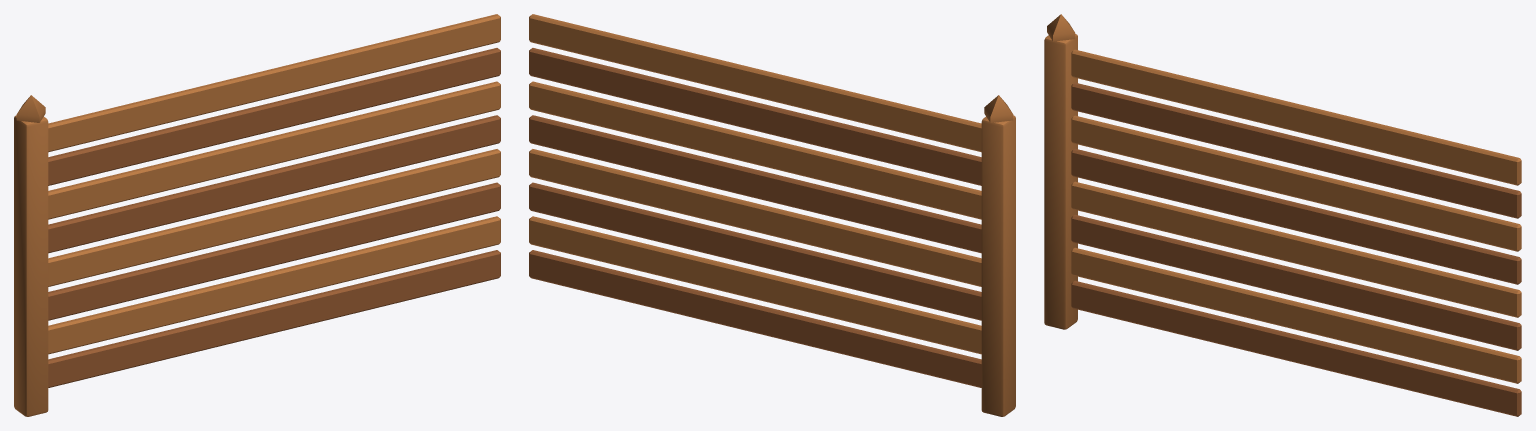
The model's file is cerca_ripada_2m.glb.
The picture shows the model from 3 angles, left to right: view 1: azimuth 30°, elevation 25°; view 2: azimuth 150°, elevation 25°; view 3: azimuth 330°, elevation 25°; orthographic projection. The views are drawn at different scales.
Visible parts, largest first — view 1: cerca_ripada_2m; view 2: cerca_ripada_2m; view 3: cerca_ripada_2m.
Part boxes in pixels (<box>): cerca_ripada_2m: <box>14,14,500,416</box>; cerca_ripada_2m: <box>529,14,1015,416</box>; cerca_ripada_2m: <box>1044,14,1521,416</box>.
Size of the model in its own units: 2.06 by 1.29 by 0.124.
Materials: 1 (1 with a texture image).
